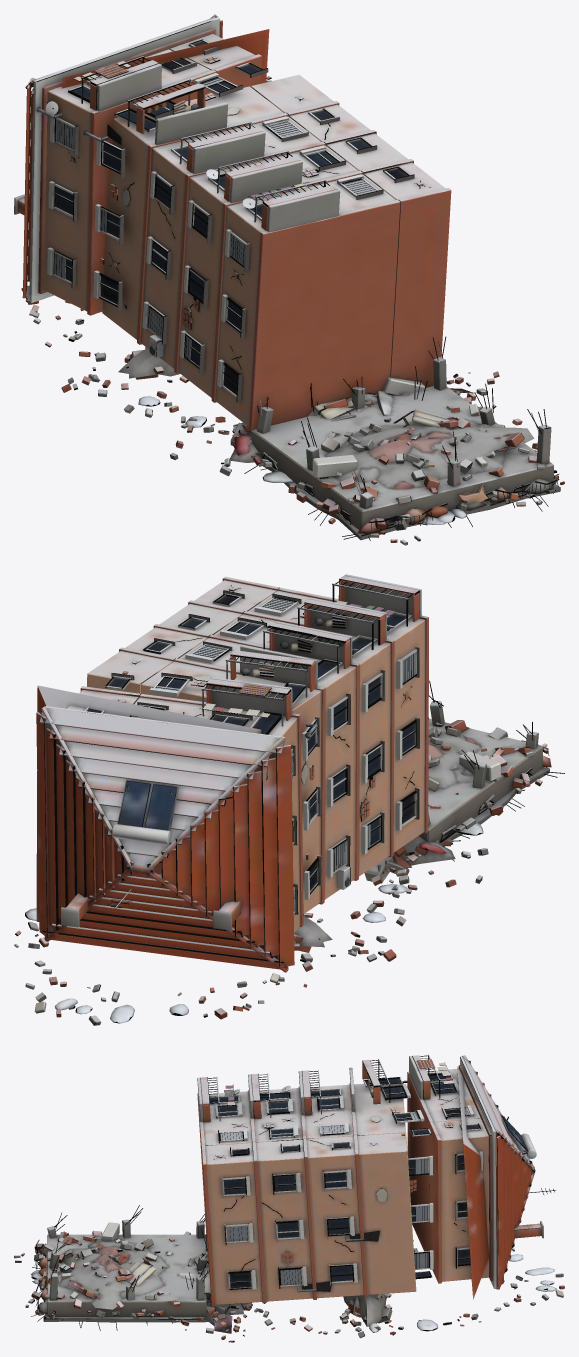
The model's file is bld_toppled.glb.
3 renders of one model, top to bottom at view 1: azimuth 30°, elevation 25°; view 2: azimuth 150°, elevation 25°; view 3: azimuth 270°, elevation 25°, orthographic. The views are drawn at different scales.
Visible parts, largest first — view 1: bld_toppled; view 2: bld_toppled; view 3: bld_toppled.
Part boxes in pixels (bbox=[...]): bld_toppled: bbox=[14, 14, 564, 545]; bld_toppled: bbox=[14, 574, 564, 1025]; bld_toppled: bbox=[14, 1054, 564, 1342].
Size of the model in its own units: 16.33 by 12.64 by 31.46.
1 material, 1 textured.
